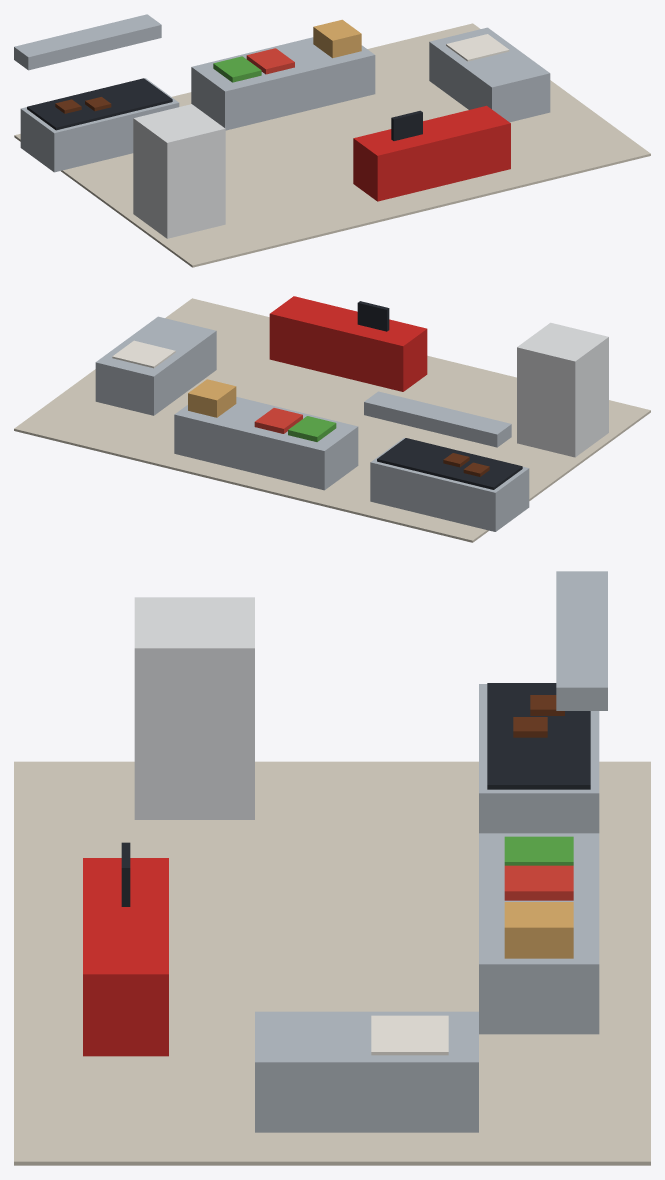
The model's file is kitchen-draco.glb.
The picture shows the model from 3 angles, top to bottom: view 1: azimuth 30°, elevation 25°; view 2: azimuth 150°, elevation 25°; view 3: azimuth 270°, elevation 25°; orthographic projection. The views are drawn at different scales.
Visible parts, largest first — view 1: object 15, object 14, register, prep line, wrap station, Cube.003, hood, griddle, bun rack, paper, lettuce bin, tomato bin (+1 smaller); view 2: object 15, object 14, register, prep line, wrap station, Cube.003, hood, griddle, bun rack, paper, lettuce bin, tomato bin (+1 smaller); view 3: object 15, object 14, wrap station, register, prep line, griddle, hood, Cube.003, bun rack, paper, tomato bin, lettuce bin.
Boxes of the visible parts, left/top/right/bottom form: object 15: left=14, top=23, right=650, bottom=267; object 14: left=133, top=104, right=225, bottom=238; register: left=353, top=105, right=510, bottom=201; prep line: left=191, top=37, right=375, bottom=130; wrap station: left=429, top=27, right=550, bottom=122; Cube.003: left=20, top=78, right=179, bottom=172; hood: left=14, top=14, right=161, bottom=70; griddle: left=27, top=78, right=172, bottom=130; bun rack: left=313, top=19, right=361, bottom=58; paper: left=446, top=34, right=509, bottom=61; lettuce bin: left=213, top=56, right=261, bottom=82; tomato bin: left=246, top=48, right=294, bottom=74; object 15: left=14, top=298, right=650, bottom=542; object 14: left=517, top=322, right=608, bottom=457; register: left=269, top=296, right=427, bottom=391; prep line: left=174, top=397, right=358, bottom=490; wrap station: left=95, top=316, right=216, bottom=415; Cube.003: left=370, top=437, right=529, bottom=531; hood: left=364, top=391, right=511, bottom=447; griddle: left=377, top=438, right=522, bottom=489; bun rack: left=188, top=379, right=236, bottom=417; paper: left=112, top=340, right=175, bottom=368; lettuce bin: left=288, top=416, right=336, bottom=441; tomato bin: left=254, top=408, right=302, bottom=433; object 15: left=14, top=761, right=650, bottom=1165; object 14: left=134, top=597, right=254, bottom=819; wrap station: left=255, top=1011, right=478, bottom=1132; register: left=83, top=858, right=168, bottom=1056; prep line: left=479, top=833, right=599, bottom=1034; griddle: left=487, top=683, right=590, bottom=789; hood: left=556, top=571, right=607, bottom=710; Cube.003: left=479, top=684, right=599, bottom=833; bun rack: left=504, top=902, right=573, bottom=958; paper: left=371, top=1015, right=448, bottom=1055; tomato bin: left=504, top=865, right=573, bottom=900; lettuce bin: left=504, top=836, right=573, bottom=865.
Size of the model in its own units: 11.3 by 2.35 by 7.4.
